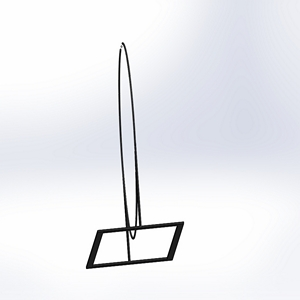circle: (82, 39, 184, 269)
